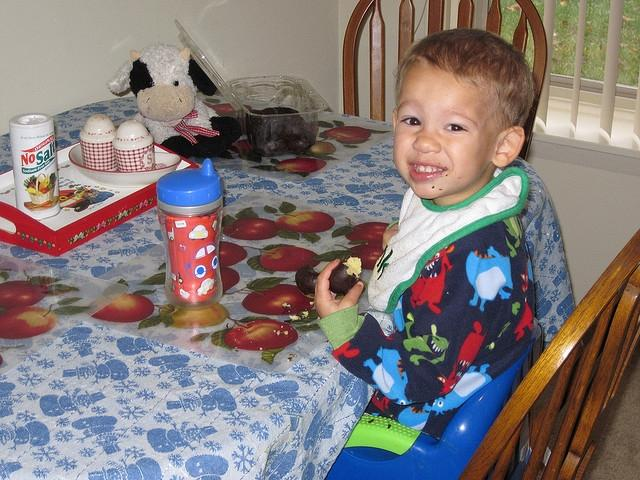apple: (91, 279, 156, 322), (138, 303, 230, 329), (224, 319, 298, 350), (242, 284, 314, 315), (0, 304, 58, 339), (308, 244, 384, 270), (259, 246, 321, 271), (222, 214, 280, 240), (0, 280, 48, 308), (275, 211, 335, 232), (345, 222, 390, 247), (276, 158, 327, 174), (324, 126, 372, 142), (219, 241, 248, 267), (220, 267, 240, 292), (307, 140, 336, 154), (212, 103, 252, 112), (229, 139, 252, 152)
